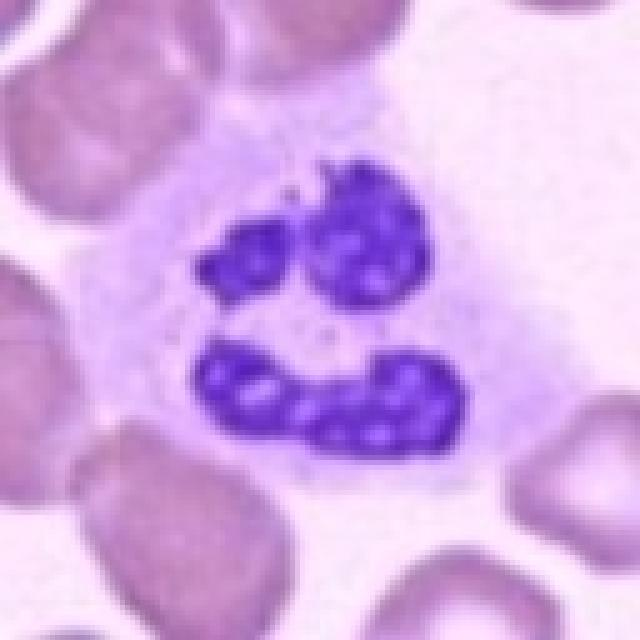neutro: (115, 141, 578, 523)
